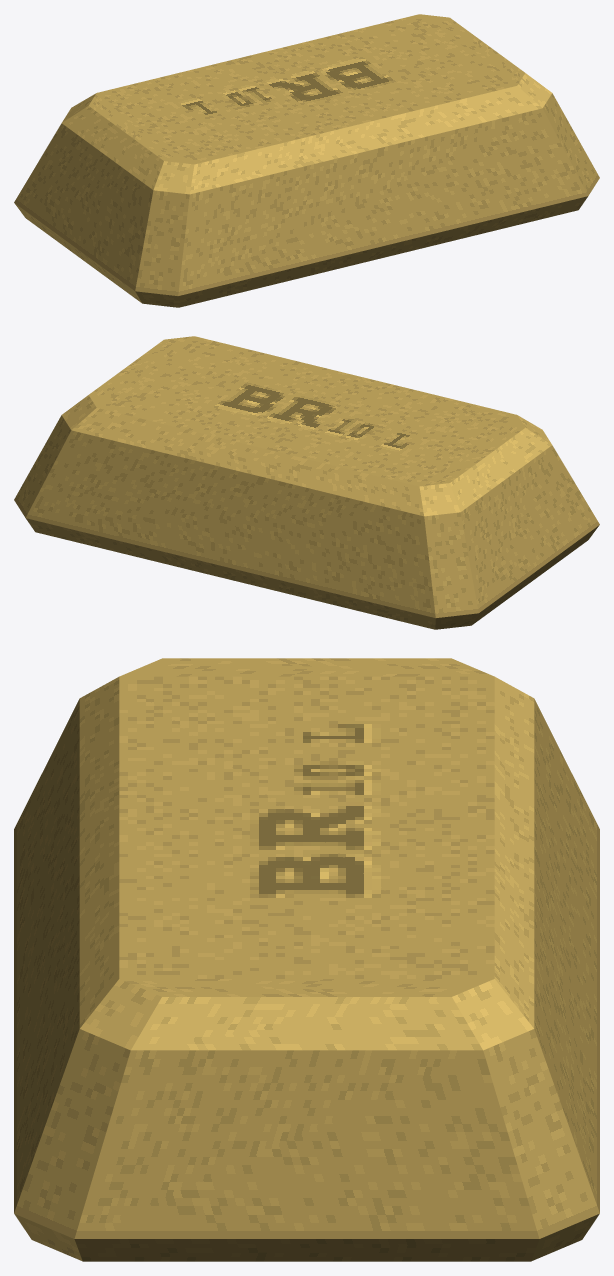
Rendered from 10l_brass.glb.
The picture shows the model from 3 angles, top to bottom: view 1: azimuth 30°, elevation 25°; view 2: azimuth 150°, elevation 25°; view 3: azimuth 270°, elevation 25°; orthographic projection. The views are drawn at different scales.
Parts seen in each view (by area): view 1: block_one-piece cast ingot; view 2: block_one-piece cast ingot; view 3: block_one-piece cast ingot.
Part boxes in pixels (left/top/right/bottom): block_one-piece cast ingot: left=14, top=14, right=599, bottom=307; block_one-piece cast ingot: left=14, top=336, right=599, bottom=629; block_one-piece cast ingot: left=14, top=658, right=599, bottom=1261.
Size of the model in its own units: 0.39 by 0.0939 by 0.2218.
1 material, 1 textured.
